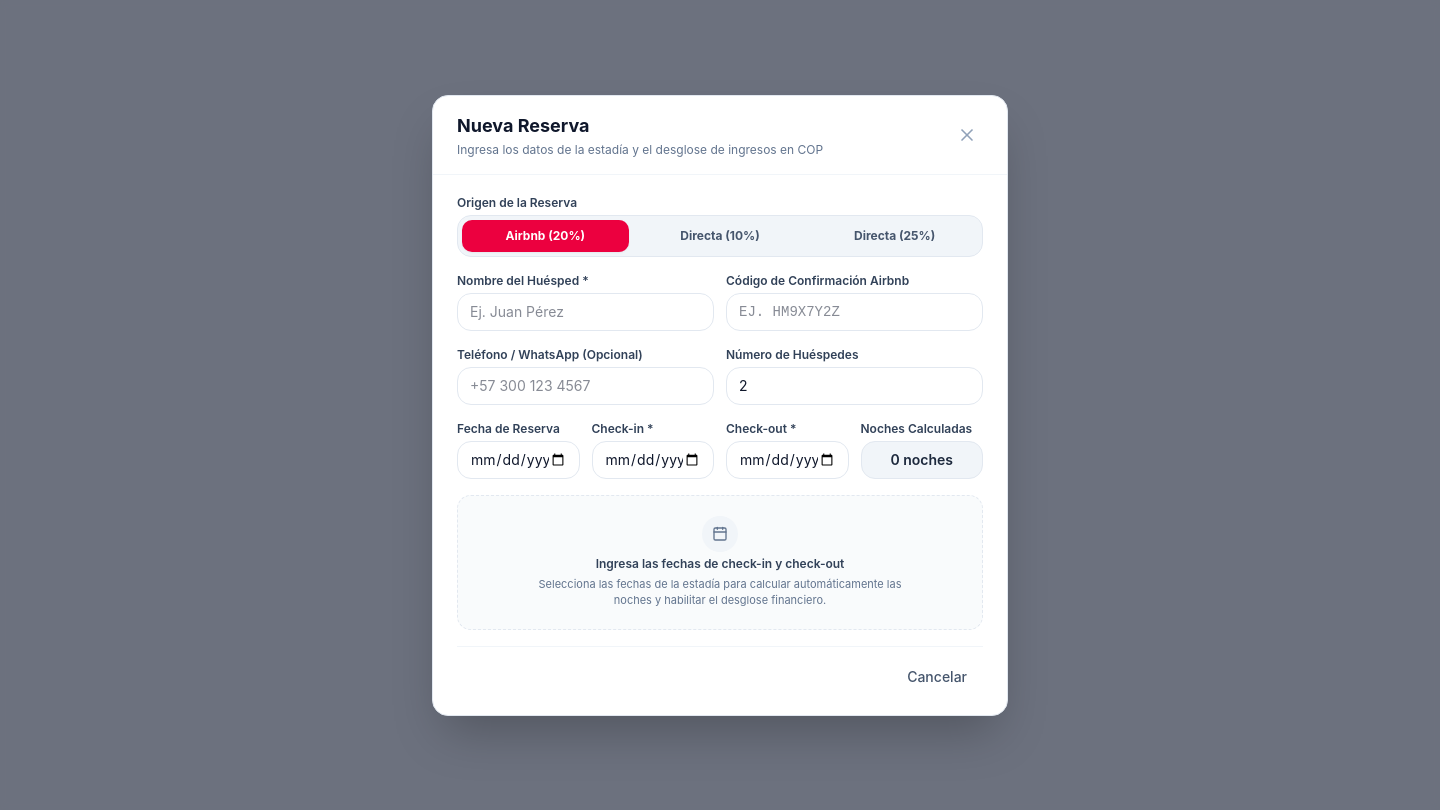
BookingModal Component › renders Airbnb, Directa 10% and Directa 25% modes with proper commission rates
expect the text "Airbnb (20%)" is shown: met, box [506, 228, 585, 244]
expect the text "Directa (10%)" is shown: met, box [680, 228, 760, 244]
// Fill dates to reveal breakdown
In the date field labelled "Check-in *": x=653, y=460 [592, 440, 714, 478], type "2026-10-10"
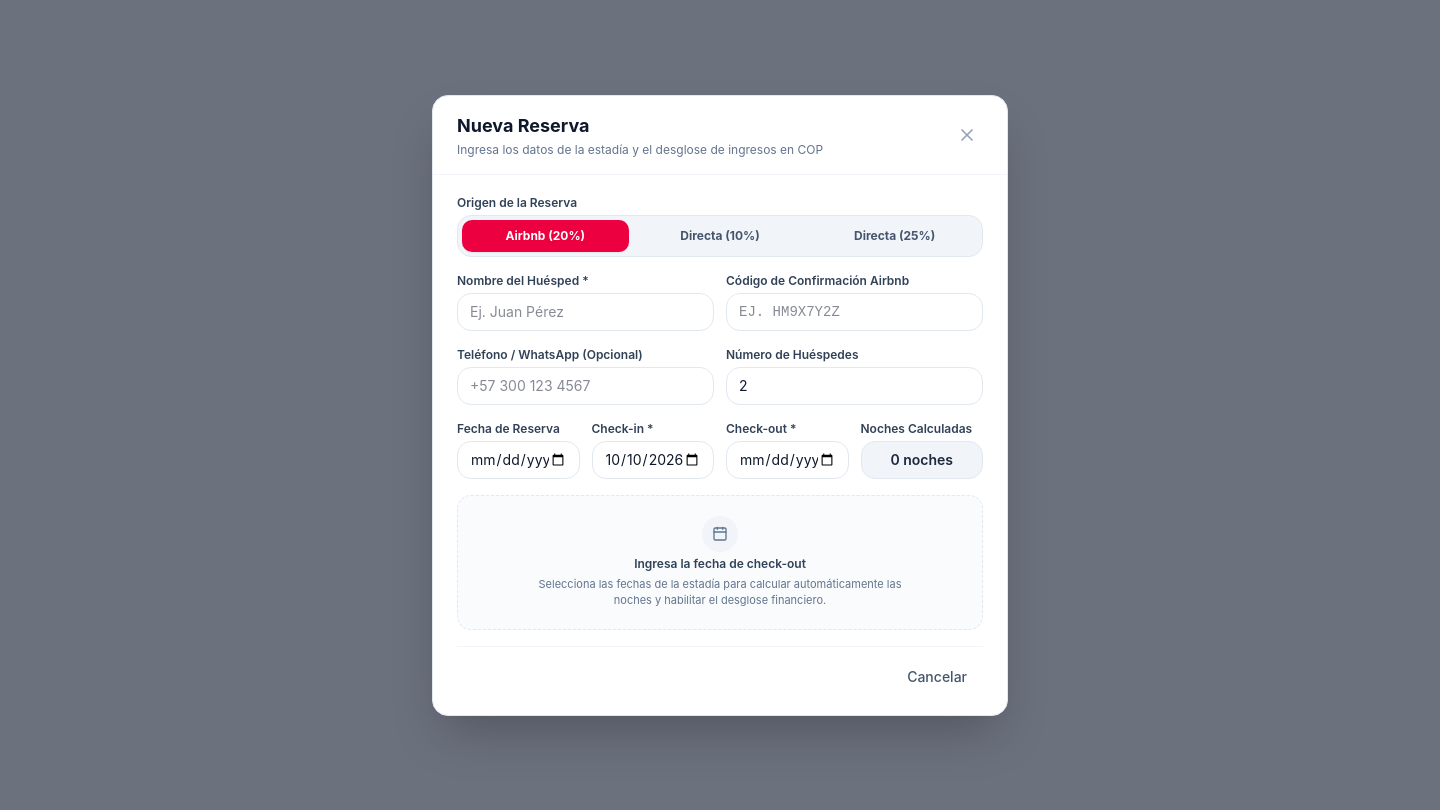
In the date field labelled "Check-out *": x=787, y=460 [726, 440, 848, 478], type "2026-10-12"
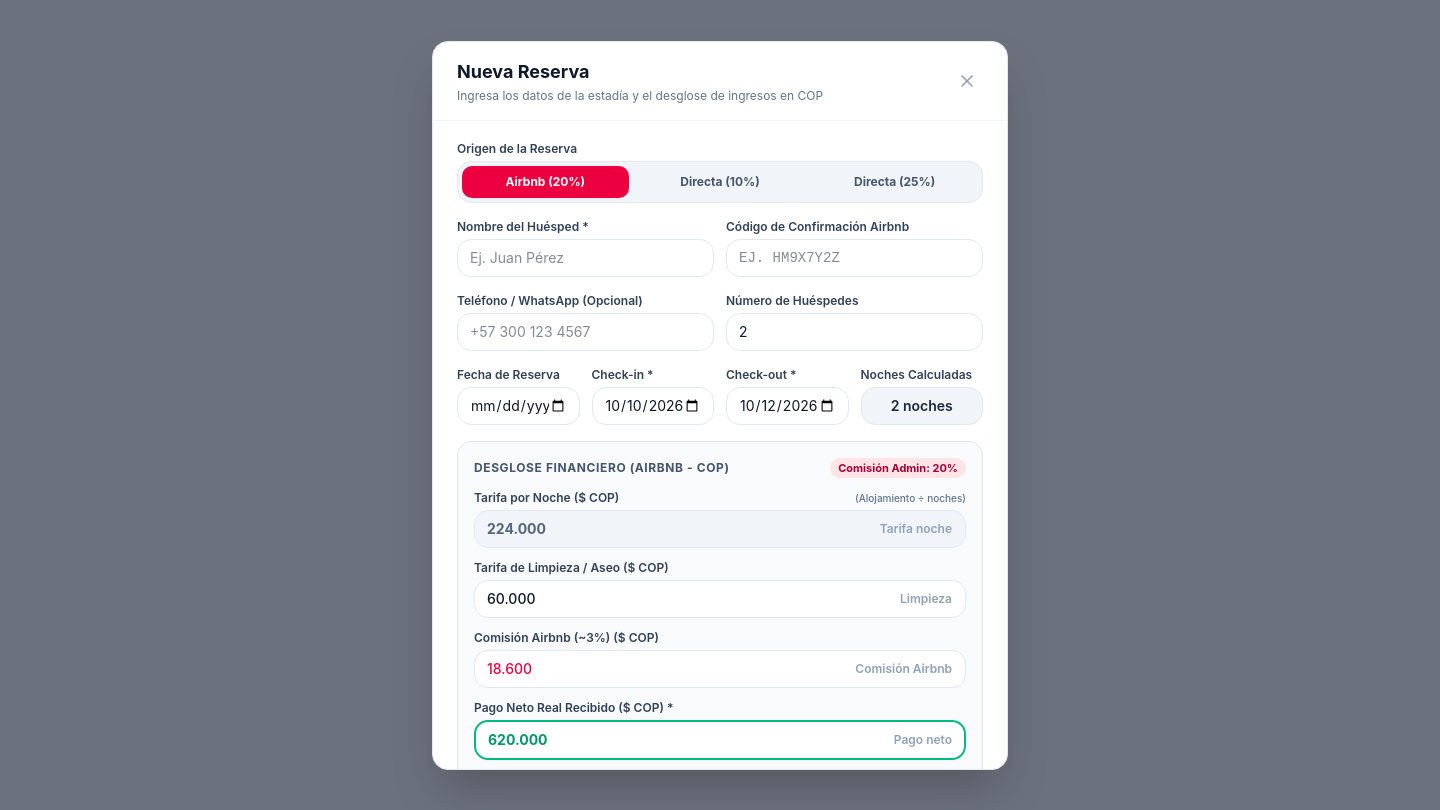
expect the text "Comisión Admin: 20%" is shown: met, box [830, 458, 966, 478]
expect the text "Comisión Airbnb (~3%) ($ COP)" is shown: met, box [474, 630, 659, 645]
